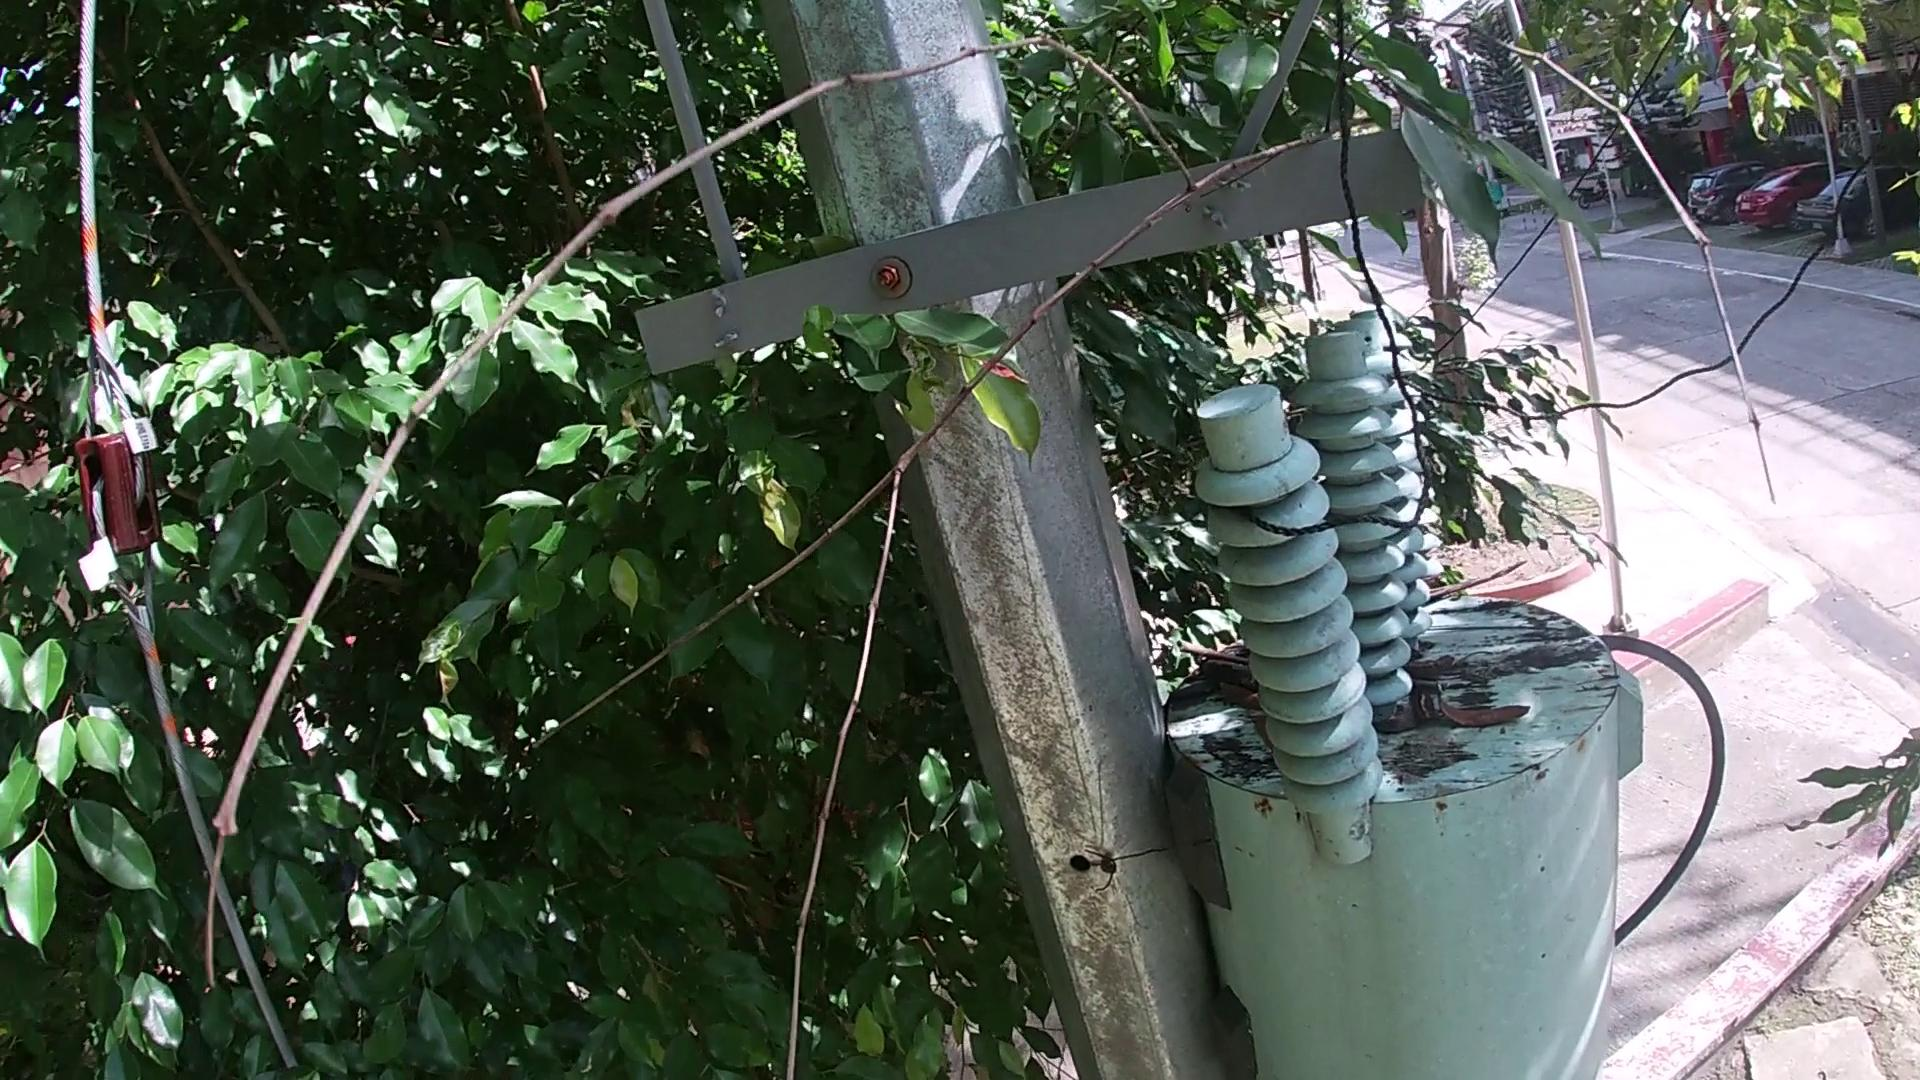leaf: (1431, 684, 1535, 735), (1217, 683, 1269, 720)
tree branch: (193, 9, 1785, 1077), (1424, 556, 1526, 607), (1174, 640, 1257, 694)
